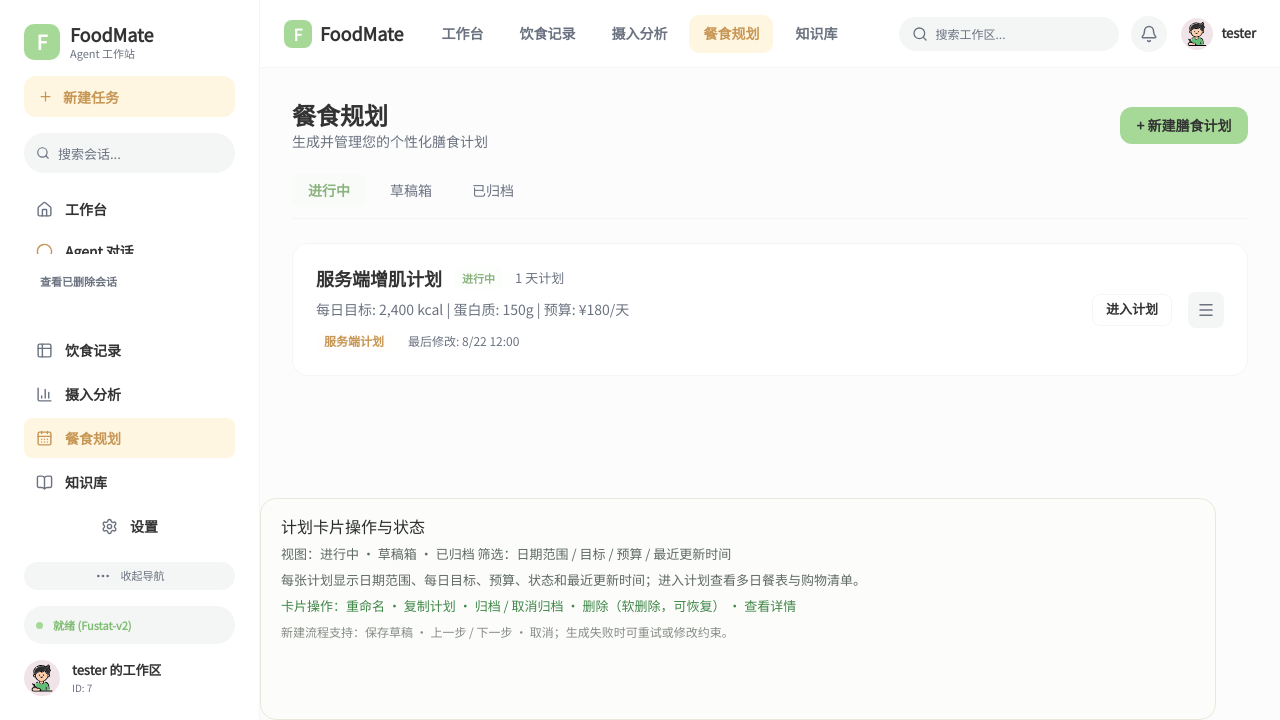
PlanningPage real mode › renders server plans and uses server meal content after opening a plan
The image size is (1280, 720).
Check: the heading "服务端增肌计划" is shown, box [316,267,442,289]
Check: the text "每日目标: 2,400 kcal | 蛋白质: 150g | 预算: ¥180/天" is shown, box [316,299,629,319]
Click the button "进入计划".
click(1132, 310)  # box [1092,294,1172,326]
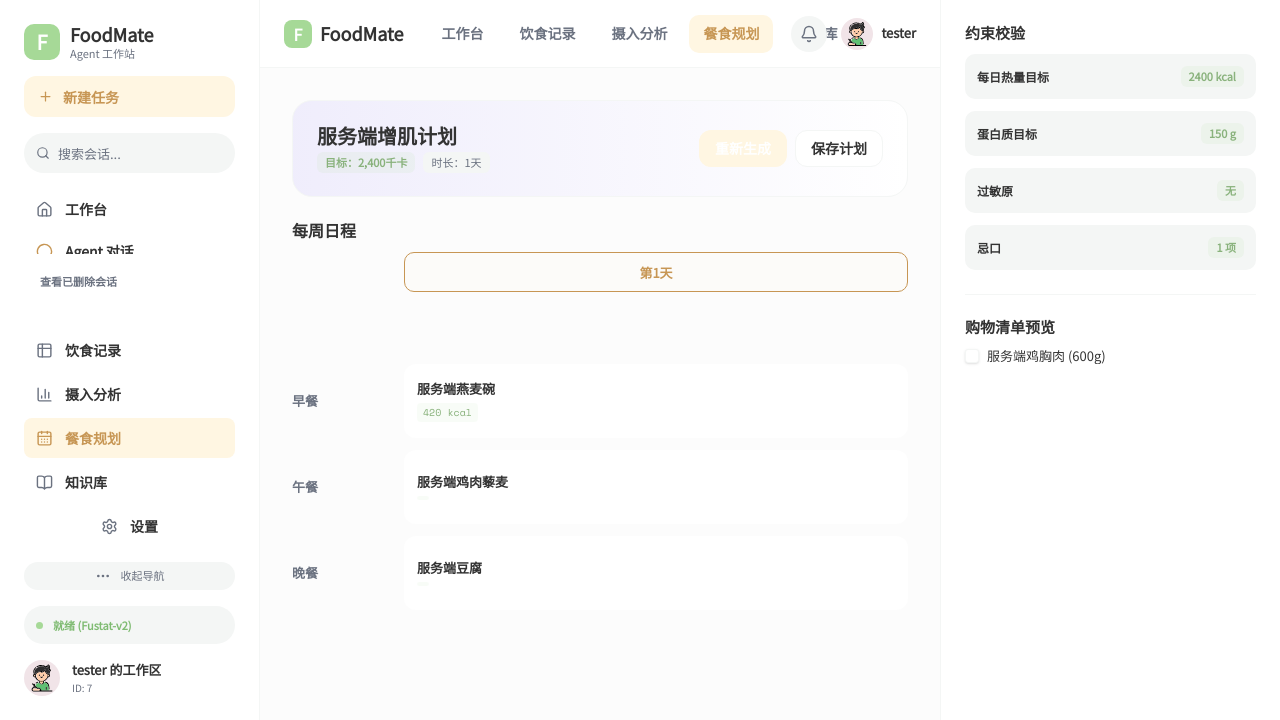
Check: the text "服务端燕麦碗" is shown, box [417,378,495,398]
Check: the text "服务端鸡肉藜麦" is shown, box [417,472,508,491]
Check: the text "服务端豆腐" is shown, box [417,558,482,577]
